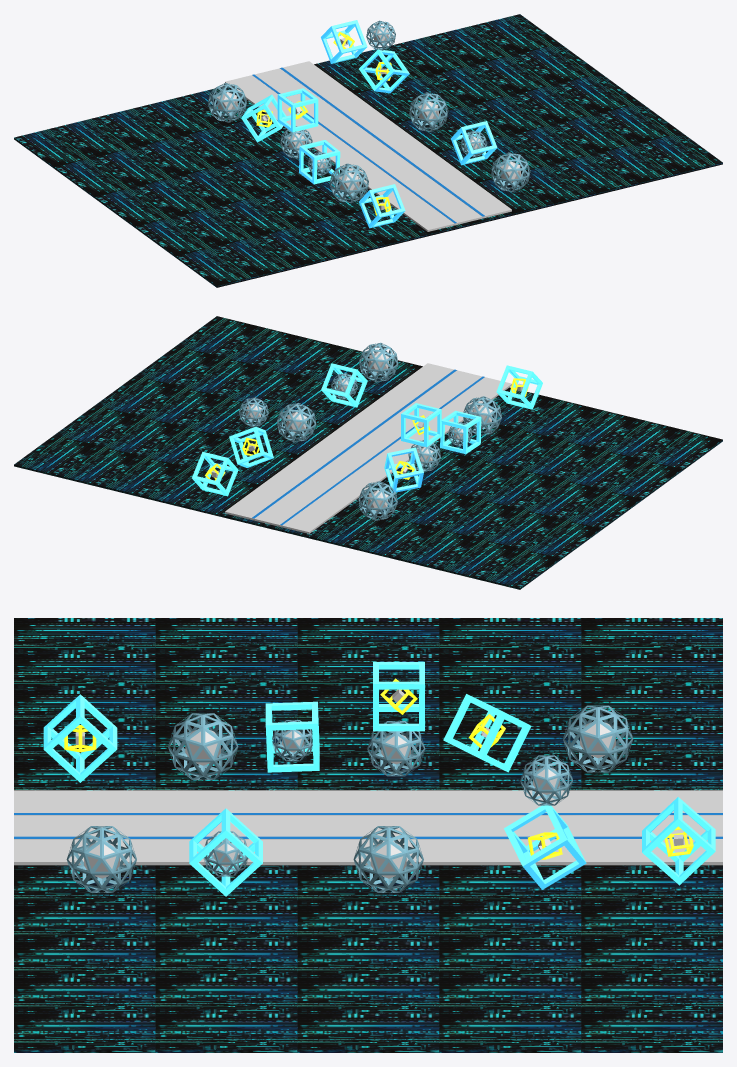
Rendered from 50LengthTileset.fbx.
The picture shows the model from 3 angles, top to bottom: view 1: azimuth 30°, elevation 25°; view 2: azimuth 150°, elevation 25°; view 3: azimuth 270°, elevation 25°; orthographic projection. The views are drawn at different scales.
Parts seen in each view (by area): view 1: Cube.021, Cube.037, Cube.028, Cube.030, Cube.034, Cube.036, Cube.040, Cube.013, Cube.039, Cube.060, Cube.038, Cube.020 (+52 smaller); view 2: Cube.021, Cube.060, Cube.056, Cube.057, Cube.058, Cube.059, Cube.061, Cube.020, Cube.054, Cube.037, Cube.038, Cube.039 (+52 smaller); view 3: Cube.021, Cube.041, Cube.019, Cube.042, Cube.040, Cube.061, Cube.010, Cube.032, Cube.033, Cube.022, Cube.023, Cube.050 (+54 smaller).
Part boxes in pixels (x1,y1,x2,y2): Cube.021: [225, 61, 511, 231]; Cube.037: [176, 246, 258, 287]; Cube.028: [261, 225, 343, 267]; Cube.030: [219, 236, 301, 277]; Cube.034: [598, 143, 680, 184]; Cube.036: [556, 153, 638, 195]; Cube.040: [640, 133, 722, 174]; Cube.013: [303, 215, 385, 256]; Cube.039: [135, 216, 217, 257]; Cube.060: [14, 127, 96, 168]; Cube.038: [95, 186, 177, 227]; Cube.020: [54, 157, 136, 198]; Cube.021: [225, 363, 511, 533]; Cube.060: [478, 548, 560, 589]; Cube.056: [393, 527, 475, 569]; Cube.057: [435, 538, 517, 579]; Cube.058: [56, 445, 138, 486]; Cube.059: [98, 455, 180, 497]; Cube.061: [14, 435, 96, 476]; Cube.020: [519, 518, 601, 559]; Cube.054: [351, 517, 433, 558]; Cube.037: [640, 429, 722, 470]; Cube.038: [559, 488, 641, 529]; Cube.039: [600, 459, 682, 500]; Cube.021: [14, 790, 722, 865]; Cube.041: [155, 1013, 297, 1052]; Cube.019: [439, 1013, 581, 1052]; Cube.042: [297, 1013, 439, 1052]; Cube.040: [14, 1013, 155, 1052]; Cube.061: [581, 1013, 722, 1052]; Cube.010: [155, 905, 297, 941]; Cube.032: [155, 941, 297, 977]; Cube.033: [155, 977, 297, 1013]; Cube.022: [439, 941, 581, 977]; Cube.023: [439, 977, 581, 1013]; Cube.050: [439, 905, 581, 941].
Size of the model in its own units: 144 by 100 by 20.98.
